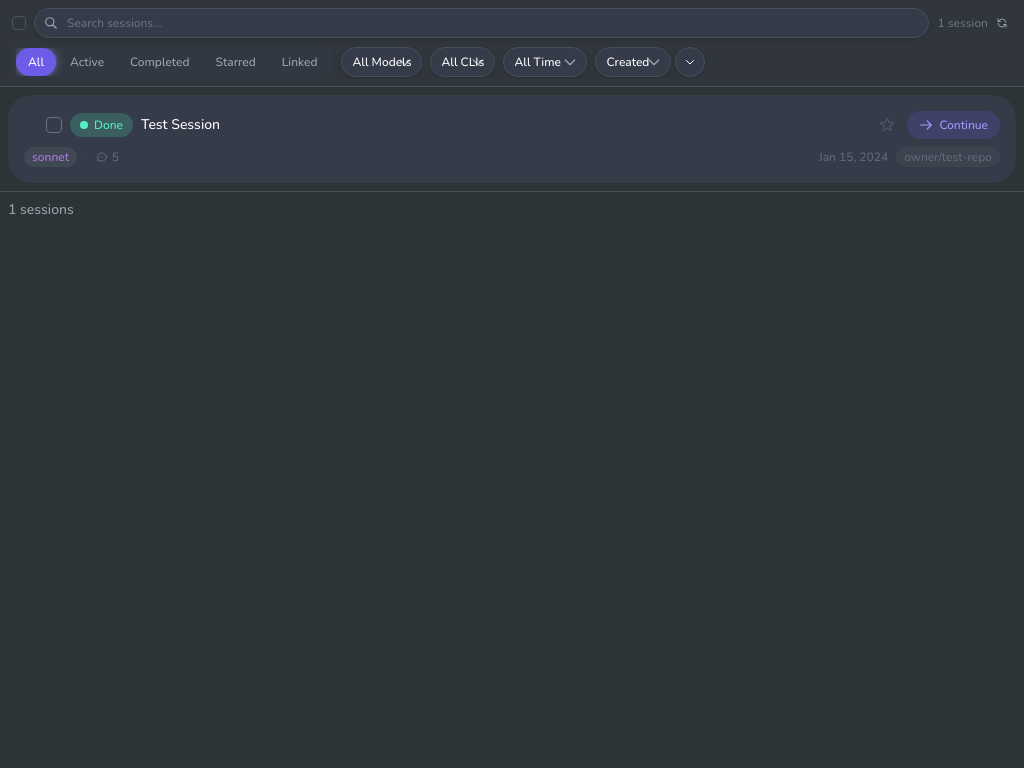
Test: SessionList › Bulk Operations › cancels delete when cancel clicked in dialog
This screenshot has width=1024, height=768.
# Select the session
Click the button titled "Select" at (54, 125), box x1=46 y1=117 x2=62 y2=133
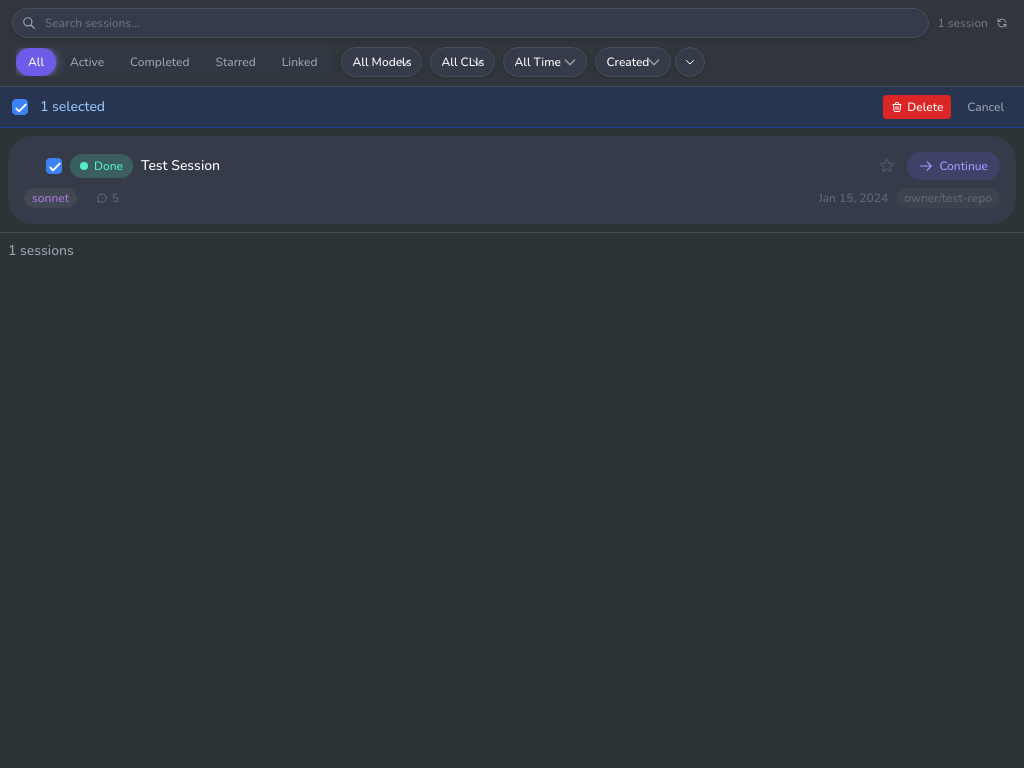
# Click Delete in bulk actions bar
Click the button titled "Delete selected" at (917, 107), box x1=883 y1=95 x2=951 y2=119
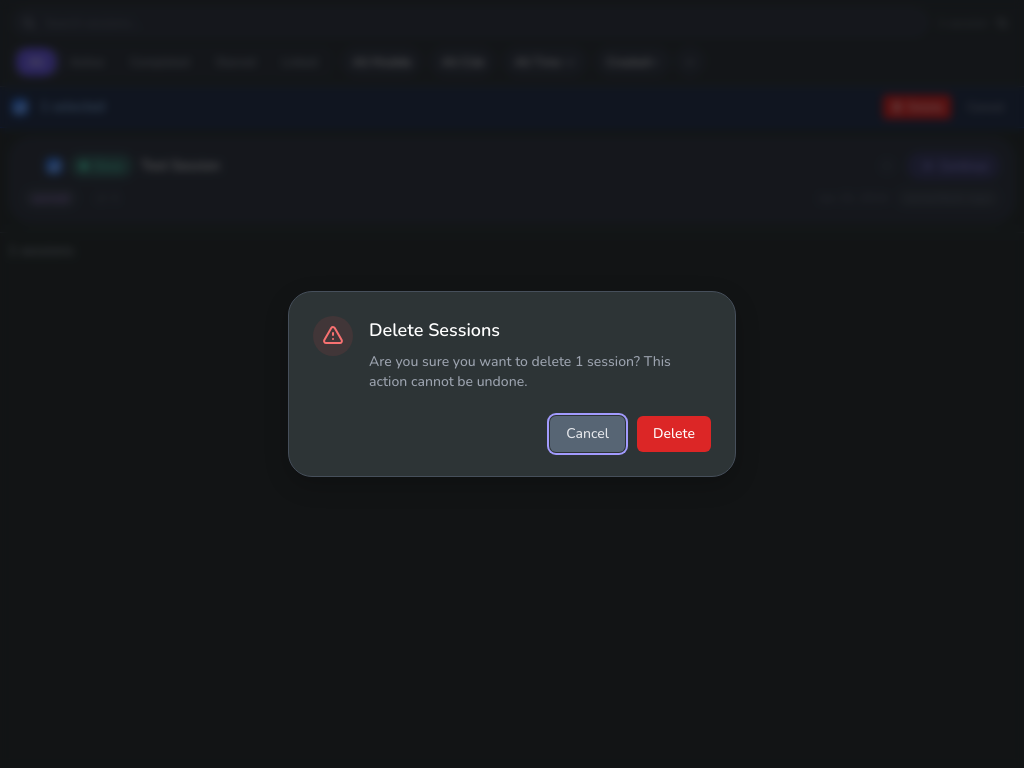
Expected: the button "Cancel" is shown
Click the button "Cancel" at (588, 434), box x1=550 y1=416 x2=625 y2=452
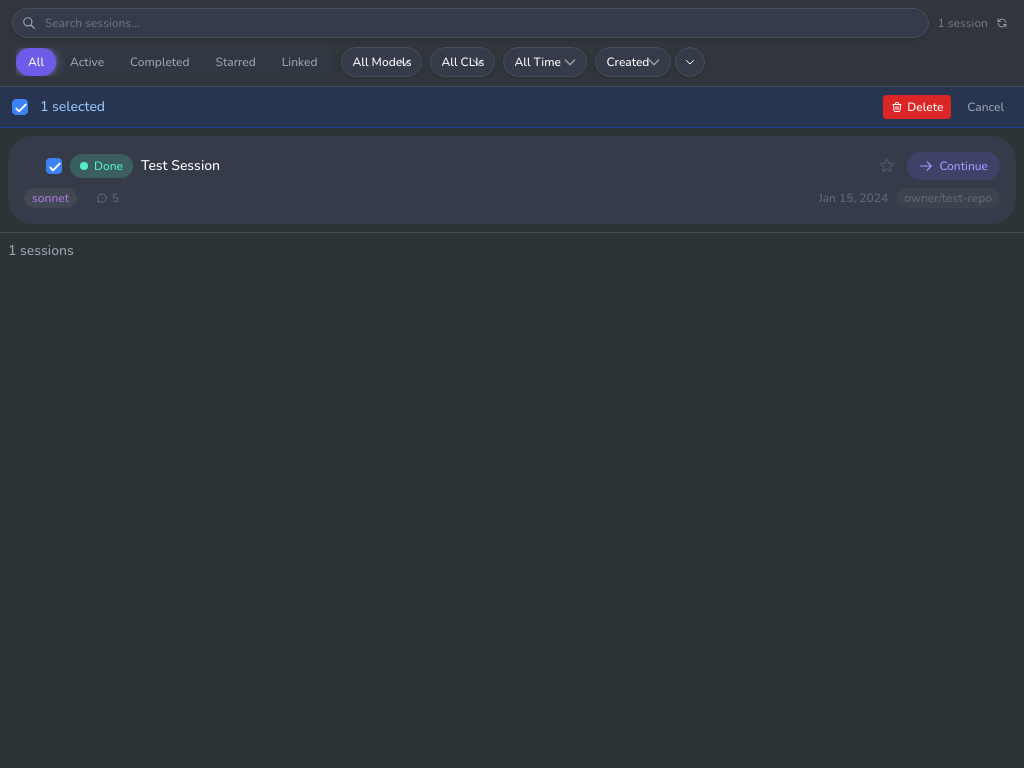
Expected: the heading "Delete Sessions" is gone
